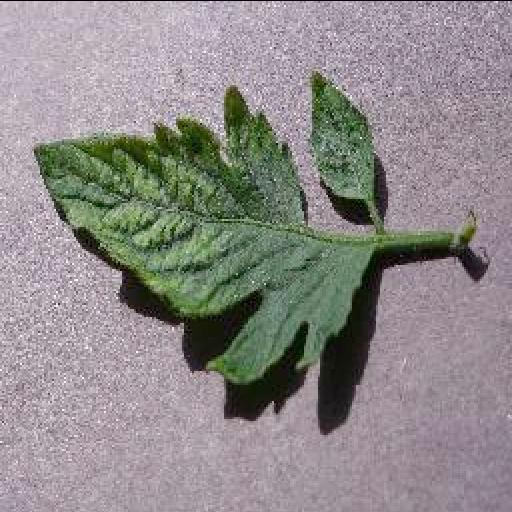Mosaic Virus: (34, 69, 384, 379)
